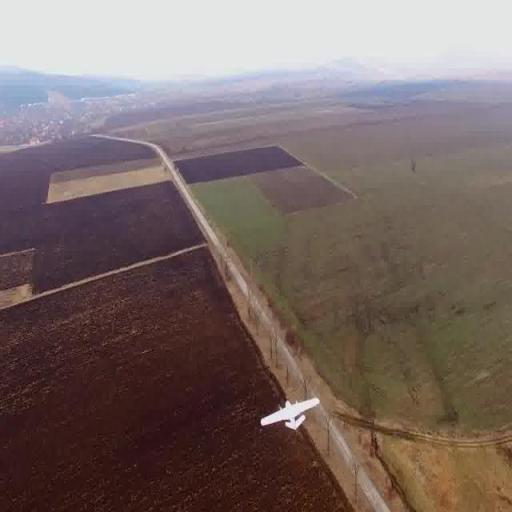uav: (254, 375, 320, 441)
